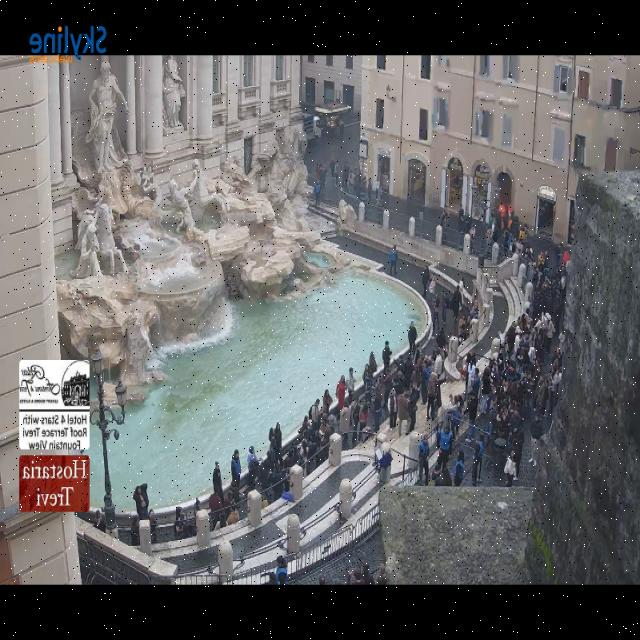person: (603, 0, 640, 46), (599, 0, 640, 39), (608, 0, 640, 48), (593, 0, 640, 32), (602, 0, 640, 39), (606, 0, 640, 40), (618, 0, 640, 56), (611, 0, 640, 38), (613, 0, 640, 40), (614, 0, 640, 39), (609, 0, 640, 31), (618, 0, 640, 41), (620, 0, 640, 45), (612, 0, 640, 32), (615, 0, 640, 35), (601, 0, 640, 22), (620, 0, 640, 39), (614, 0, 640, 30), (624, 0, 640, 47), (396, 390, 412, 437), (612, 0, 640, 26), (529, 412, 543, 464), (617, 0, 640, 31), (618, 0, 640, 32), (613, 0, 640, 26), (616, 0, 640, 29), (511, 426, 524, 479), (438, 423, 452, 472), (257, 455, 272, 500), (619, 0, 640, 32), (617, 0, 640, 29), (615, 0, 640, 25), (418, 434, 430, 486), (617, 0, 640, 27), (282, 449, 297, 490), (618, 0, 640, 27), (208, 489, 223, 528), (467, 389, 479, 437), (626, 0, 640, 41), (625, 0, 640, 38), (472, 438, 484, 485), (540, 318, 557, 351), (378, 440, 392, 480), (626, 0, 640, 39), (247, 445, 260, 486), (426, 372, 437, 420), (228, 480, 241, 520), (624, 0, 640, 31), (613, 0, 640, 18), (408, 388, 419, 432), (450, 398, 461, 442), (453, 448, 465, 488), (212, 462, 224, 502), (615, 0, 640, 19), (504, 451, 517, 487), (619, 0, 640, 22), (626, 0, 640, 33), (340, 401, 352, 439), (222, 491, 235, 526), (230, 451, 242, 487), (334, 374, 347, 407), (350, 400, 360, 442), (629, 0, 640, 38), (358, 404, 369, 442), (450, 286, 462, 320), (626, 0, 640, 29), (274, 554, 288, 583), (526, 342, 540, 371), (625, 0, 640, 27), (615, 0, 640, 16), (388, 389, 398, 429), (532, 271, 542, 311), (619, 0, 640, 19), (319, 419, 330, 455), (626, 0, 640, 28), (630, 0, 640, 39), (621, 0, 640, 20), (268, 436, 278, 474), (626, 0, 640, 27), (542, 278, 554, 309), (173, 506, 184, 539), (149, 509, 160, 542), (346, 368, 356, 404), (554, 280, 564, 316), (360, 563, 376, 585), (130, 514, 141, 546), (274, 423, 282, 466), (408, 322, 418, 356), (624, 0, 640, 21), (626, 0, 640, 23), (362, 362, 372, 394), (191, 500, 200, 535), (628, 0, 640, 26), (630, 0, 640, 31), (628, 0, 640, 25), (310, 398, 320, 428), (356, 176, 368, 201), (619, 0, 640, 14), (382, 341, 392, 370), (622, 0, 640, 16), (628, 0, 640, 24), (458, 210, 466, 246), (350, 567, 366, 585), (389, 245, 398, 277), (627, 0, 640, 22), (629, 0, 640, 26), (323, 389, 333, 417), (376, 563, 389, 584), (434, 350, 444, 377), (628, 0, 640, 22), (441, 293, 449, 326), (630, 0, 640, 26), (453, 394, 464, 417), (95, 510, 106, 533), (628, 0, 640, 21), (319, 164, 328, 192), (467, 359, 476, 386), (630, 0, 640, 24), (484, 228, 492, 258), (422, 266, 430, 296), (433, 296, 440, 330), (369, 351, 378, 376), (342, 162, 350, 190), (314, 180, 322, 207), (375, 180, 383, 207), (634, 0, 640, 34), (628, 0, 640, 16), (633, 0, 640, 26), (631, 0, 640, 20), (634, 0, 640, 29), (634, 0, 640, 27), (632, 0, 640, 20), (634, 0, 640, 26), (633, 0, 640, 22), (632, 0, 640, 19), (440, 209, 448, 228), (428, 276, 436, 295), (633, 0, 640, 21), (632, 0, 640, 18), (634, 0, 640, 24), (265, 572, 277, 584), (316, 162, 323, 182), (634, 0, 640, 23), (631, 0, 640, 15), (634, 0, 640, 22), (630, 0, 640, 13), (632, 0, 640, 16), (634, 0, 640, 21), (632, 0, 640, 15), (634, 0, 640, 20), (635, 0, 640, 24), (367, 178, 372, 202), (563, 248, 570, 265), (634, 0, 640, 19), (335, 119, 341, 138), (633, 0, 640, 16), (635, 0, 640, 22), (334, 164, 339, 186), (634, 0, 640, 18), (633, 0, 640, 15), (635, 0, 640, 21), (632, 0, 640, 13), (634, 0, 640, 17), (635, 0, 640, 20), (636, 0, 640, 25), (631, 0, 640, 11), (632, 0, 640, 12), (634, 0, 640, 16), (635, 0, 640, 19), (635, 0, 640, 18), (634, 0, 640, 15), (636, 0, 640, 22), (632, 0, 640, 11), (634, 0, 640, 14), (470, 224, 476, 238), (635, 0, 640, 16), (634, 0, 640, 13), (635, 0, 640, 15), (634, 0, 640, 12), (632, 0, 640, 9), (636, 0, 640, 18), (635, 0, 640, 14), (635, 0, 640, 13), (634, 0, 640, 10), (635, 0, 640, 12), (637, 0, 640, 20), (636, 0, 640, 15), (636, 0, 640, 14), (632, 0, 640, 7), (636, 0, 640, 13), (636, 0, 640, 12), (635, 0, 640, 9), (636, 0, 640, 11), (637, 0, 640, 14), (637, 0, 640, 13), (636, 0, 640, 9), (637, 0, 640, 11), (635, 0, 640, 6), (637, 0, 640, 9), (636, 0, 640, 5)
